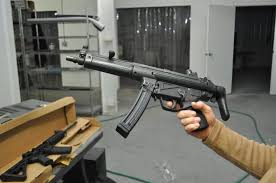rifle: (66, 44, 230, 139), (1, 120, 79, 181)
